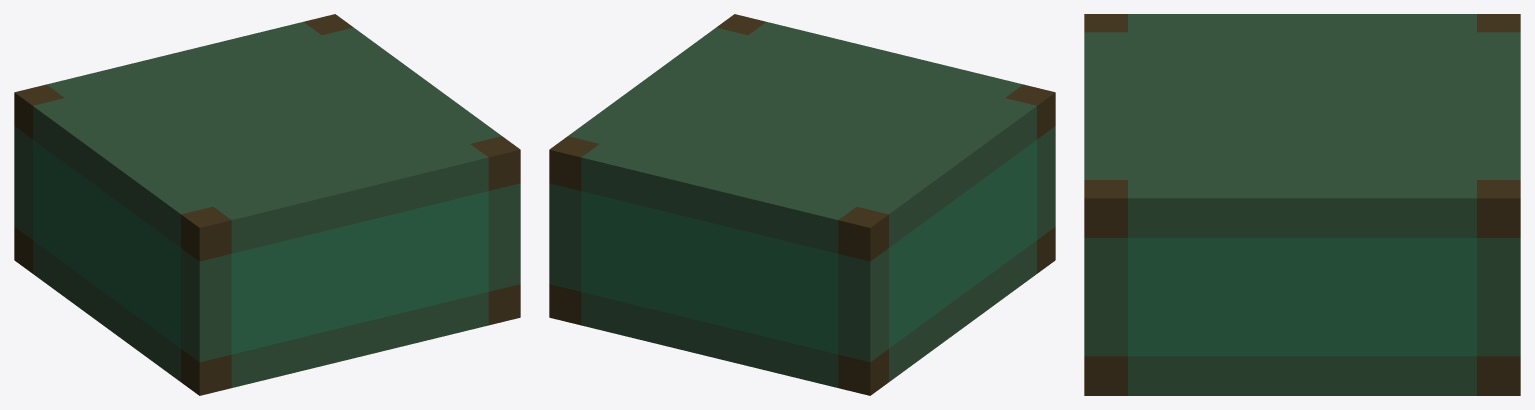
File: TileFloorInterac.obj
3 views of the same model, side by side, from view 1: azimuth 30°, elevation 25°; view 2: azimuth 150°, elevation 25°; view 3: azimuth 270°, elevation 25° (orthographic). The views are drawn at different scales.
Size of the model in its own units: 1 by 0.5 by 1.
1 material, 1 textured.
